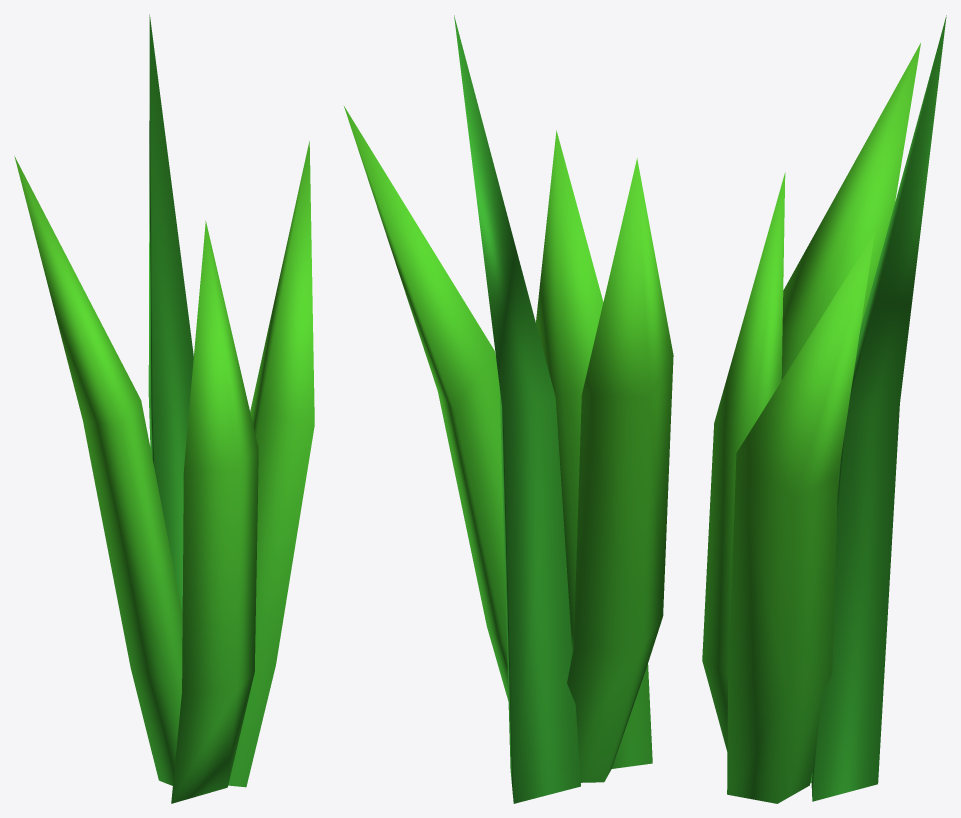
Rendered from Plant_2_B_2.fbx.
3 renders of one model, left to right at view 1: azimuth 30°, elevation 25°; view 2: azimuth 150°, elevation 25°; view 3: azimuth 270°, elevation 25°, orthographic. The views are drawn at different scales.
Visible parts, largest first — view 1: Plant_2_B_2; view 2: Plant_2_B_2; view 3: Plant_2_B_2.
Part boxes in pixels (x1,y1,x2,y2): Plant_2_B_2: (14, 14, 314, 803); Plant_2_B_2: (343, 15, 673, 803); Plant_2_B_2: (702, 15, 946, 803).
Bounding box in the file's own units: 11.2 × 27.29 × 7.74.
